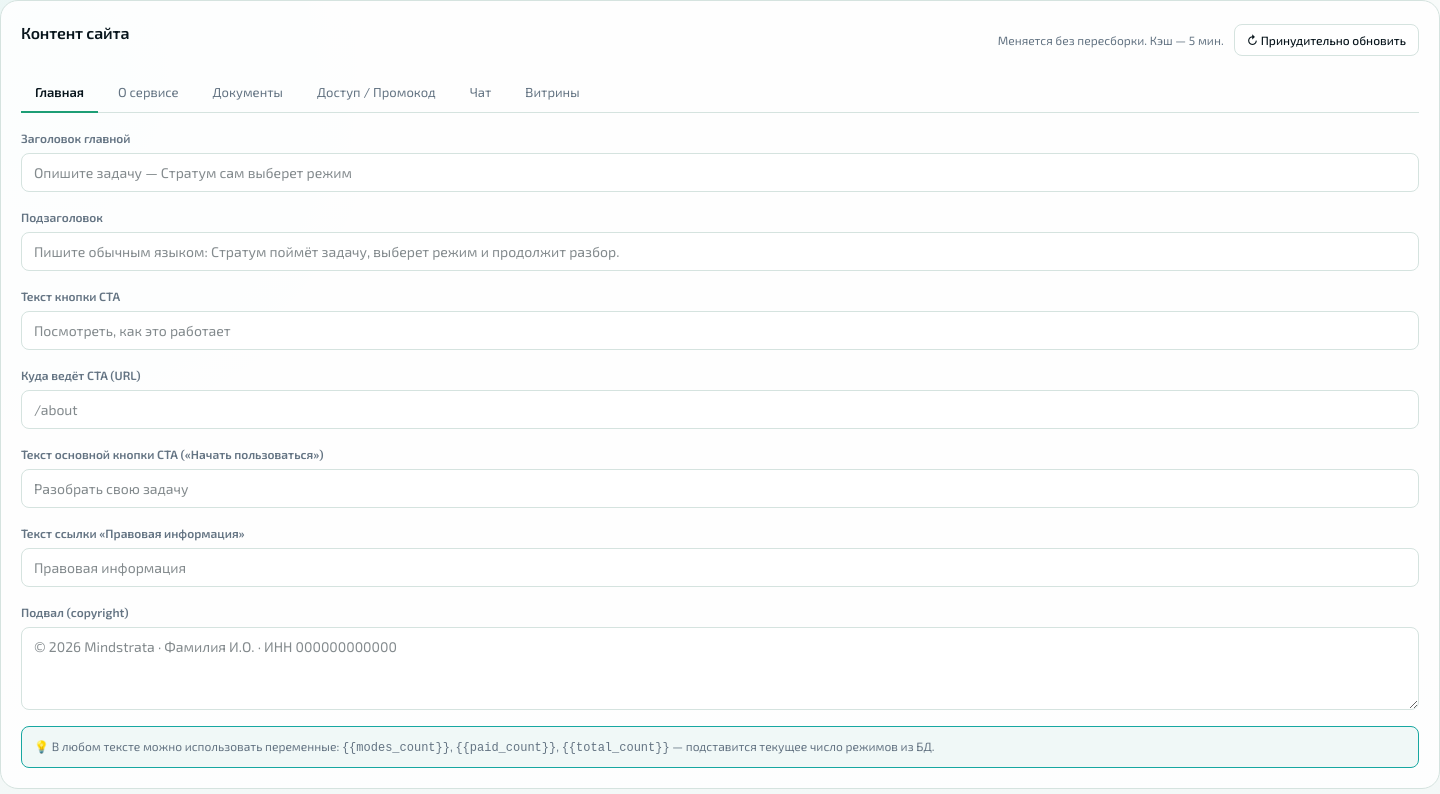
Test: AdminContentTab — auto-save flow › переключение подвкладки на «О сервисе» показывает новые поля
Click the button "О сервисе": {"x": 148, "y": 94} left=104, top=75, right=193, bottom=112
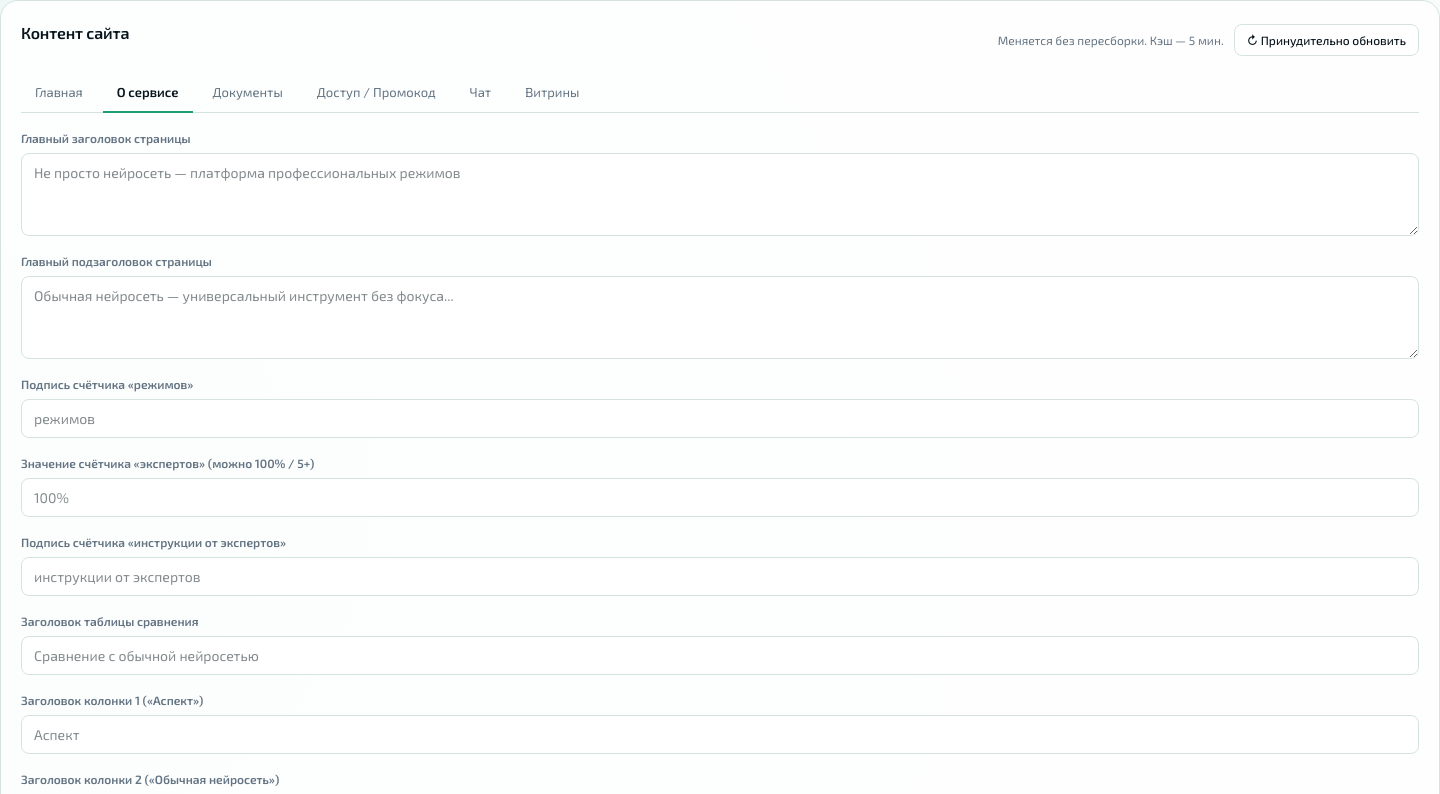
expect the text box with placeholder "Не просто нейросеть — платформа профессиональных режимов" is shown: met, box left=21, top=152, right=1419, bottom=236
expect the text "Заголовок таблицы сравнения" is shown: met, box left=21, top=612, right=198, bottom=630
